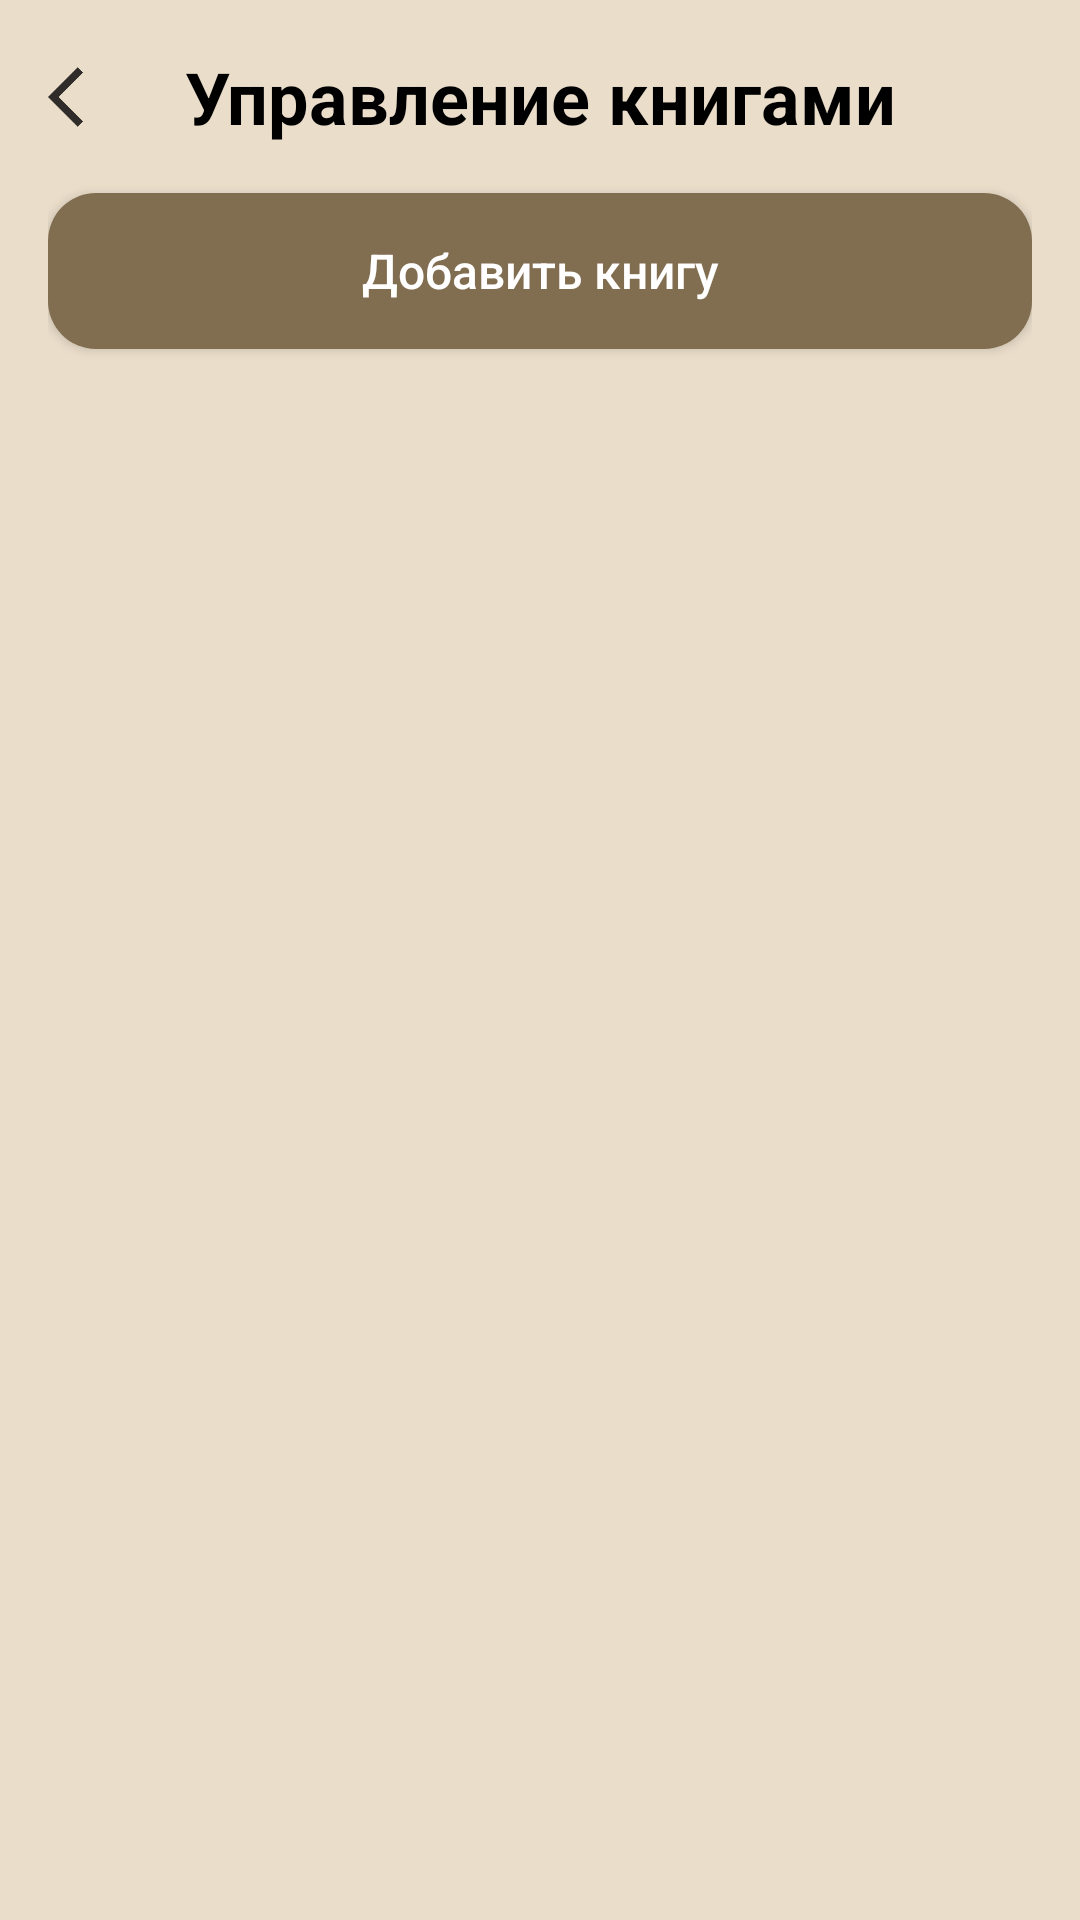

Screen size 1080x1920. Icon name, then its center in pixels as (x=x, y=y):
Назад: (x=65, y=97)
